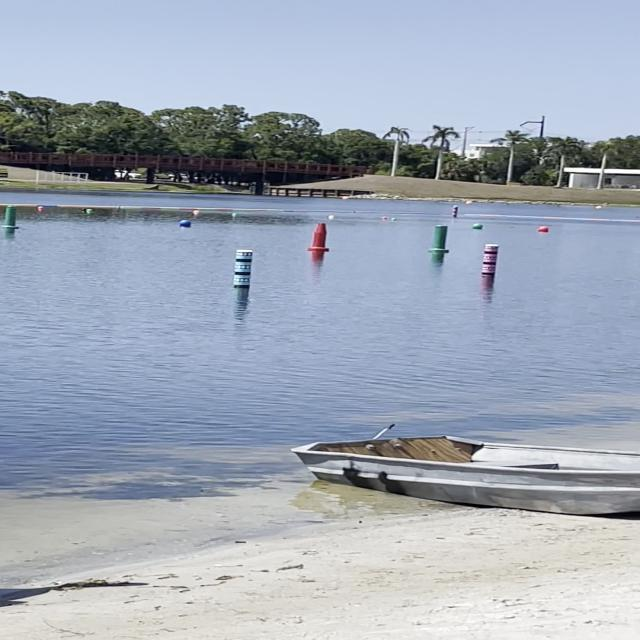buoy: (178, 220, 192, 228), (536, 226, 550, 233), (472, 222, 484, 230), (194, 210, 202, 214), (86, 208, 94, 212), (328, 215, 335, 219), (381, 216, 388, 220), (37, 206, 44, 210), (392, 217, 397, 221), (232, 213, 237, 216)
